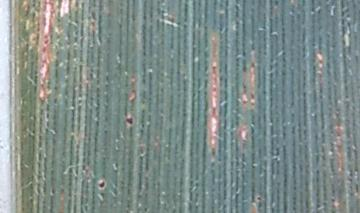tarspot: (124, 115, 135, 125), (97, 178, 106, 190), (241, 63, 248, 73), (250, 60, 256, 68), (256, 195, 263, 201)
